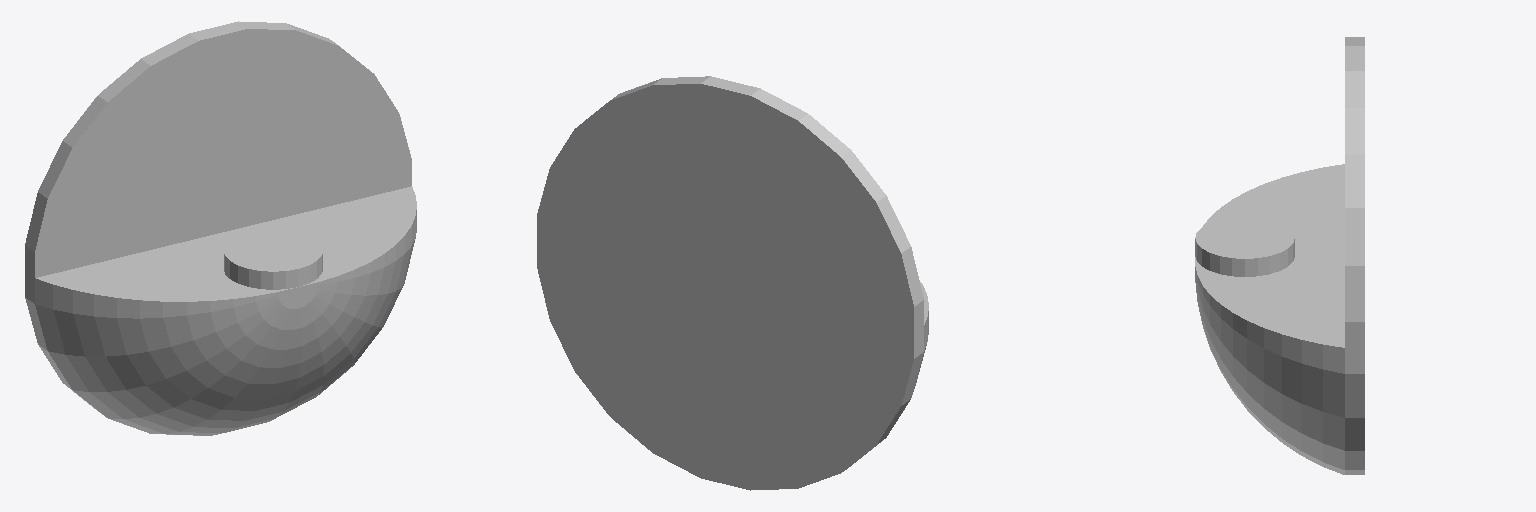
The model's file is Axis1.obj.
3 views of the same model, side by side, from view 1: azimuth 30°, elevation 25°; view 2: azimuth 150°, elevation 25°; view 3: azimuth 270°, elevation 25° (orthographic).
Parts seen in each view (by area): view 1: Mesh1 Group1 Model; view 2: Mesh1 Group1 Model; view 3: Mesh1 Group1 Model.
Boxes of the visible parts, box(x1,y1,x2,y2) form: Mesh1 Group1 Model: box(25, 21, 416, 435); Mesh1 Group1 Model: box(537, 76, 928, 490); Mesh1 Group1 Model: box(1195, 37, 1364, 474).
Bounding box in the file's own units: 0.4362 × 0.4362 × 0.17.